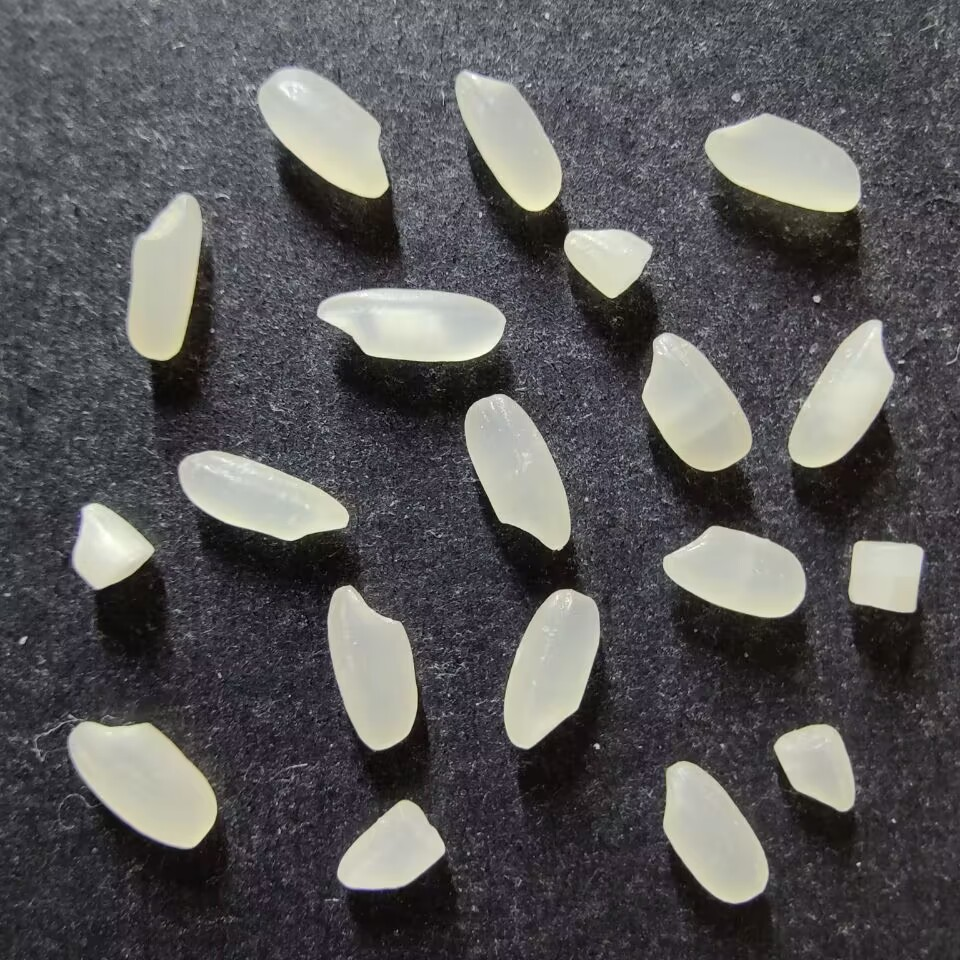broken: (336, 798, 446, 891), (773, 723, 856, 812), (71, 502, 154, 590), (563, 227, 652, 299), (847, 540, 923, 614)
rice: (68, 720, 217, 849), (257, 68, 390, 198), (462, 393, 571, 551), (788, 318, 894, 468), (703, 113, 861, 213), (640, 331, 752, 472), (502, 588, 600, 749), (178, 449, 349, 541), (661, 760, 769, 903), (326, 584, 418, 750), (454, 69, 561, 211), (316, 287, 506, 362), (661, 525, 807, 618), (125, 192, 202, 361)
